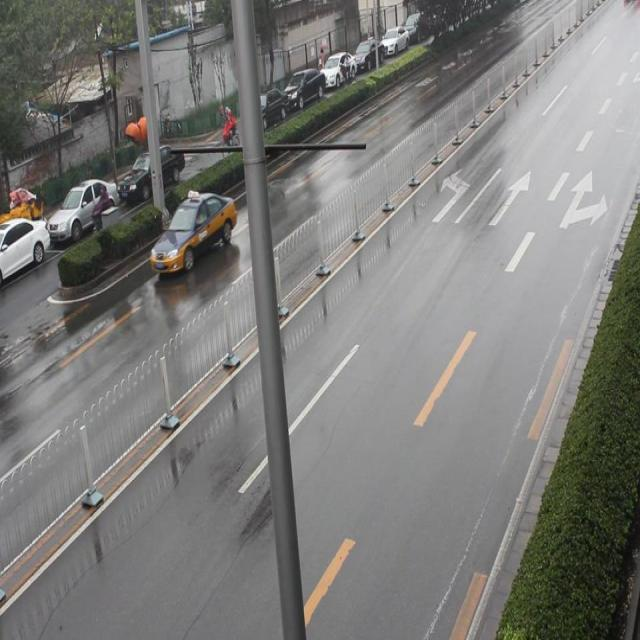car: (153, 187, 241, 286)
